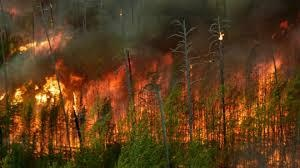fire: (9, 29, 64, 53)
